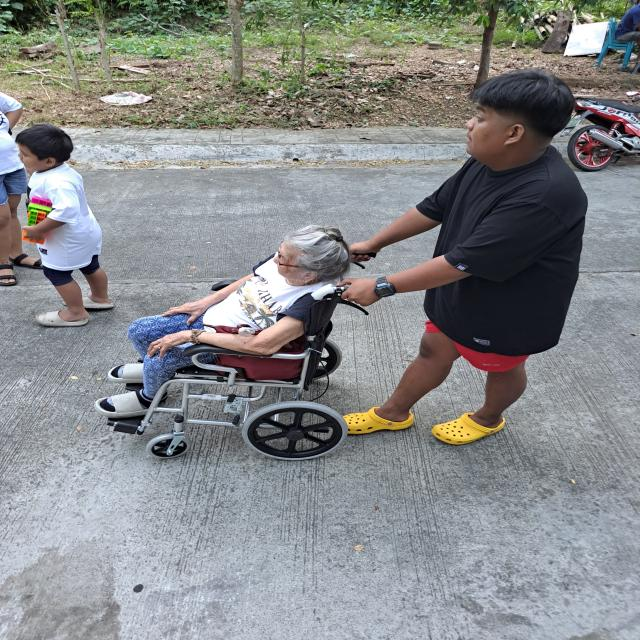wheelchairs: (96, 249, 360, 462)
